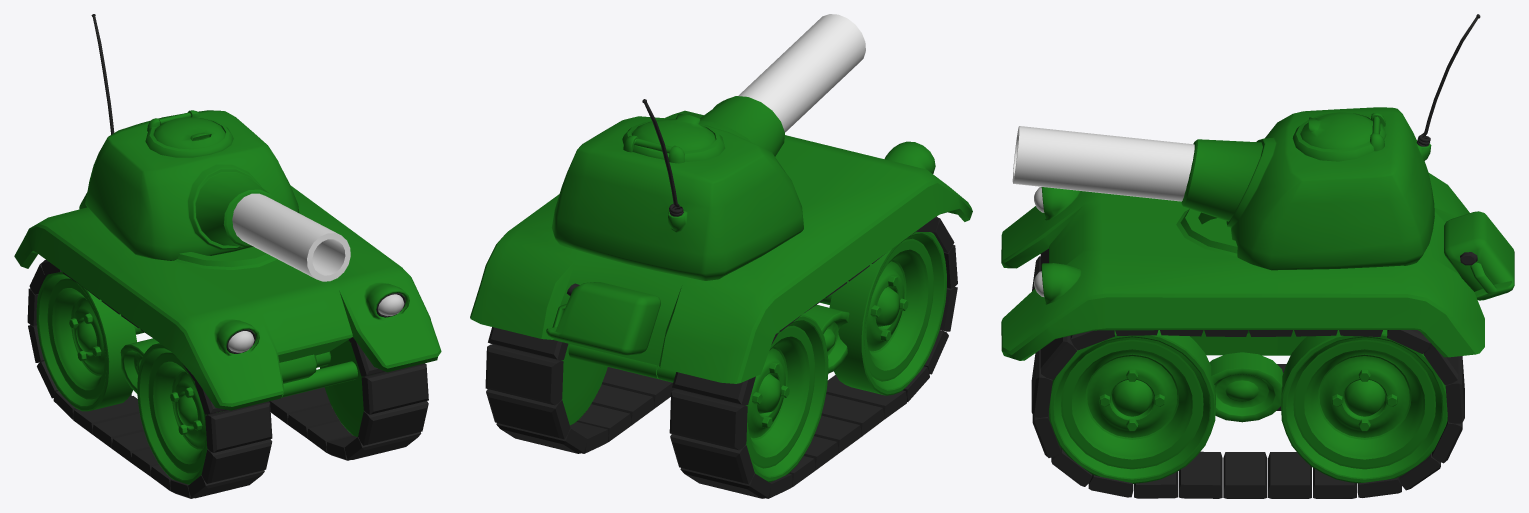
File: Artillery.FBX
The picture shows the model from 3 angles, left to right: view 1: azimuth 30°, elevation 25°; view 2: azimuth 150°, elevation 25°; view 3: azimuth 270°, elevation 25°; orthographic projection. The views are drawn at different scales.
Parts seen in each view (by area): view 1: TankChassis, TankTracksRight, TankTurret, TankTracksLeft, Tube001; view 2: TankChassis, TankTracksRight, TankTurret, TankTracksLeft, Tube001; view 3: TankChassis, TankTracksLeft, TankTurret, Tube001.
Part boxes in pixels (x1=…): TankChassis: x1=14, y1=185, x2=441, y2=410; TankTracksRight: x1=27, y1=260, x2=282, y2=498; TankTurret: x1=85, y1=14, x2=299, y2=260; TankTracksLeft: x1=268, y1=337, x2=428, y2=460; Tube001: x1=232, y1=193, x2=350, y2=281; TankChassis: x1=470, y1=100, x2=972, y2=383; TankTracksRight: x1=657, y1=216, x2=957, y2=498; TankTurret: x1=551, y1=96, x2=803, y2=280; TankTracksLeft: x1=485, y1=327, x2=676, y2=453; Tube001: x1=738, y1=14, x2=865, y2=132; TankChassis: x1=1001, y1=173, x2=1514, y2=422; TankTracksLeft: x1=1031, y1=330, x2=1464, y2=498; TankTurret: x1=1181, y1=14, x2=1480, y2=270; Tube001: x1=1012, y1=126, x2=1194, y2=201.
Bounding box in the file's own units: 87.85 × 123 × 140.
